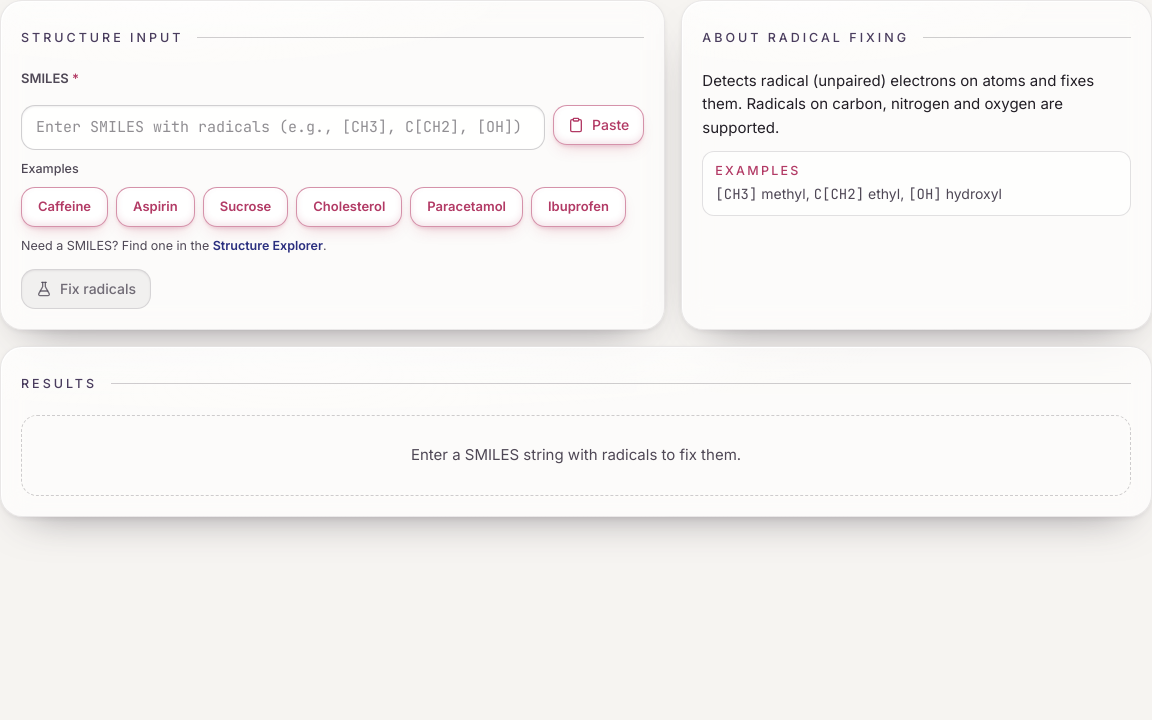
Scenario: FixRadicalsView (bento) › shows the counts and the fixed structure
Type "C[CH2]" into the field labelled "SMILES *" at (283, 127), box [21,104,545,150]
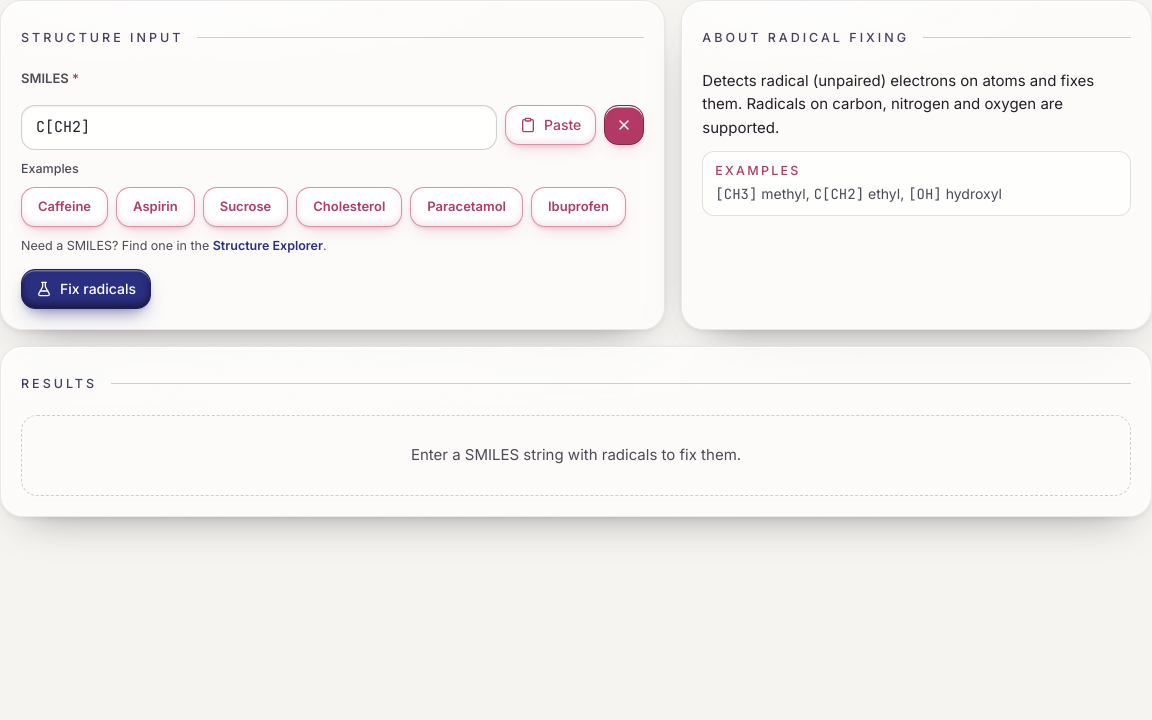
Click the button "Fix radicals" at (86, 289), box [21,269,151,309]
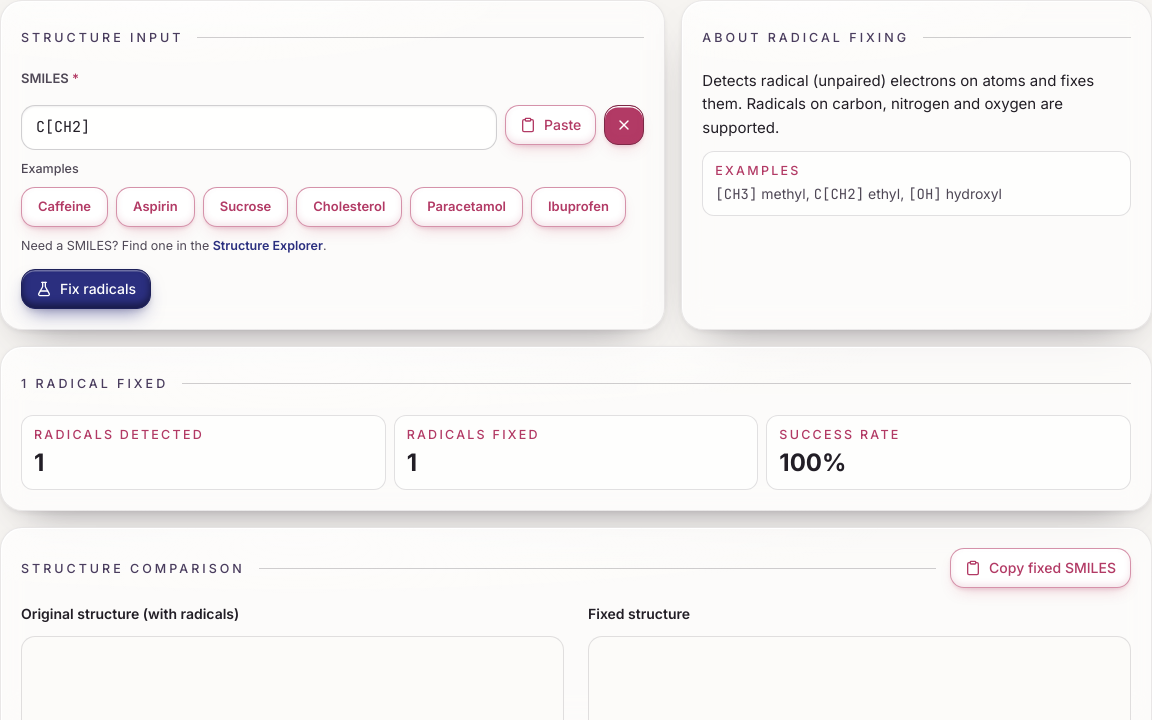
Check: the text "Radicals detected" is shown, box [34,427,204,442]
Check: the text "100%" is shown, box [779,448,846,477]
Check: the button "Copy fixed SMILES" is shown, box [950,548,1131,588]
